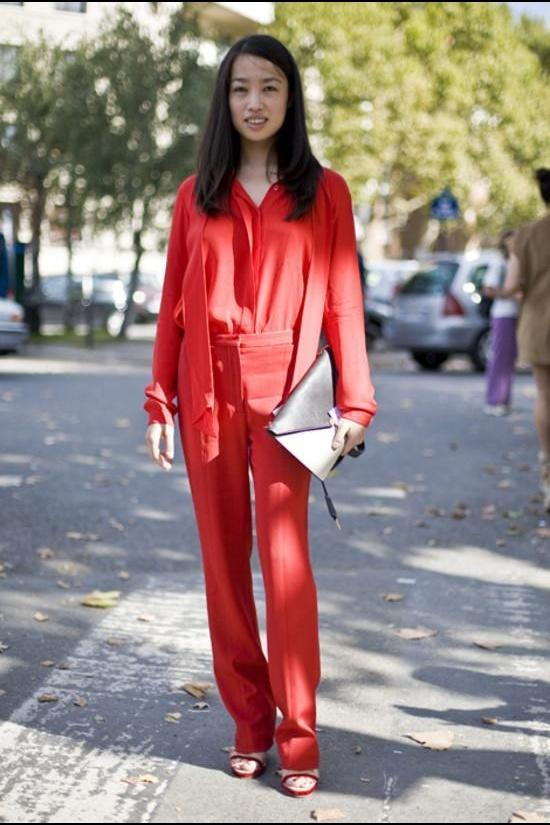pants: (179, 332, 321, 772)
shirt: (144, 163, 377, 468)
